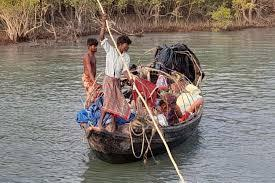fishing boat: (75, 31, 207, 165)
